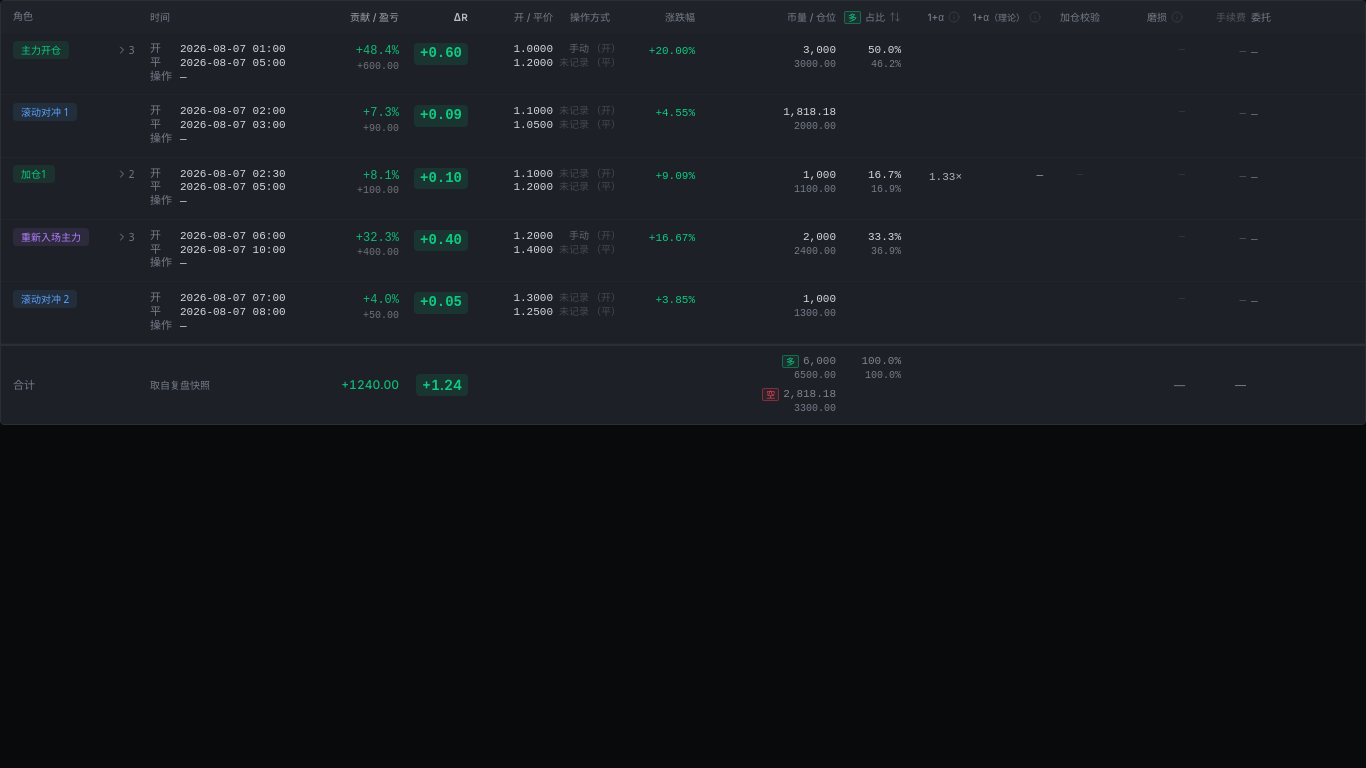
Scenario: 【用户要求】主力与其他多单的阶段子行默认折叠，收尾不呈现 › 点开：阶段子行出现在主力行正下方，容器 id 与 aria-controls 对上；再点收起
Click the button "3" next to "主力开仓" at (127, 50), box [113,41,141,59]
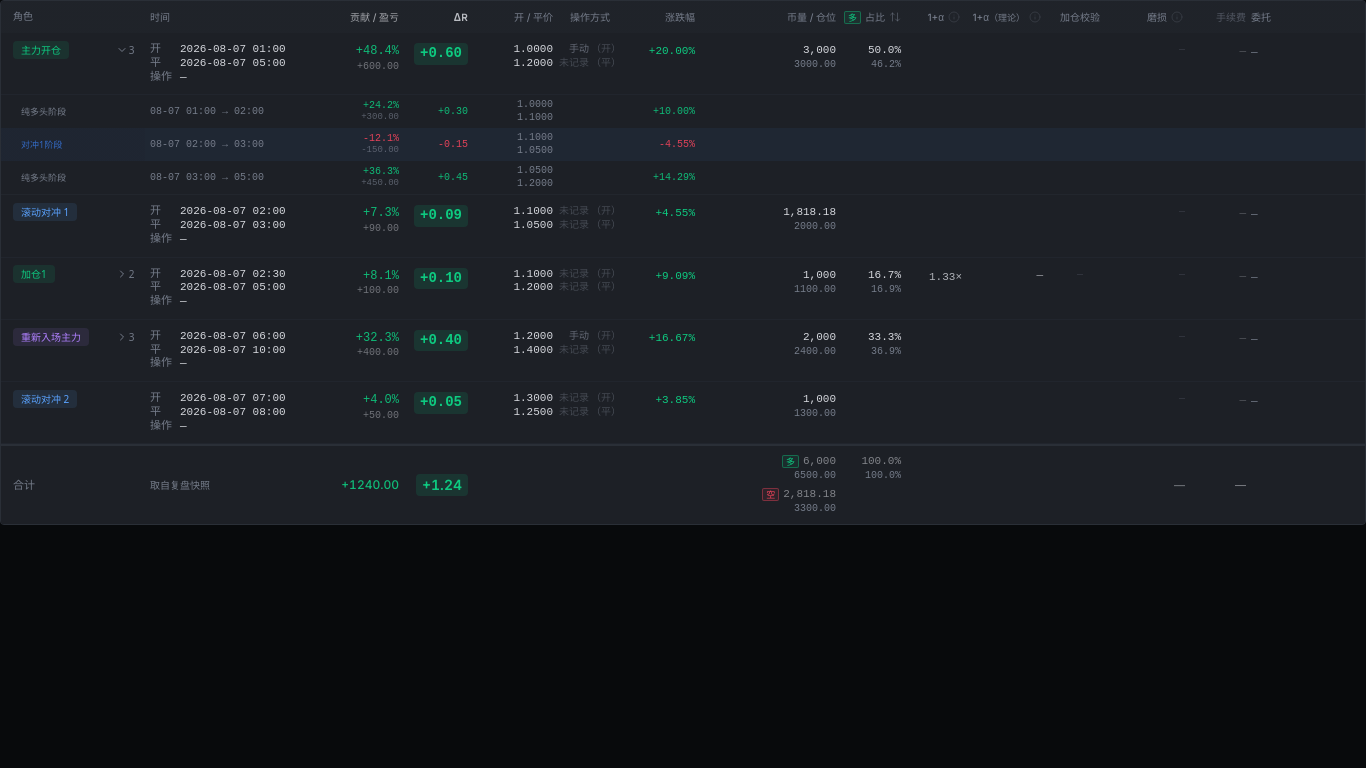
expect the element showing "纯多头阶段" in the row of "+24.2%" is shown: met, box [21,105,66,118]
expect the element showing "对冲1阶段" is shown: met, box [1,128,145,161]
Click the button "3" next to "主力开仓" at (127, 50), box [113,41,141,59]
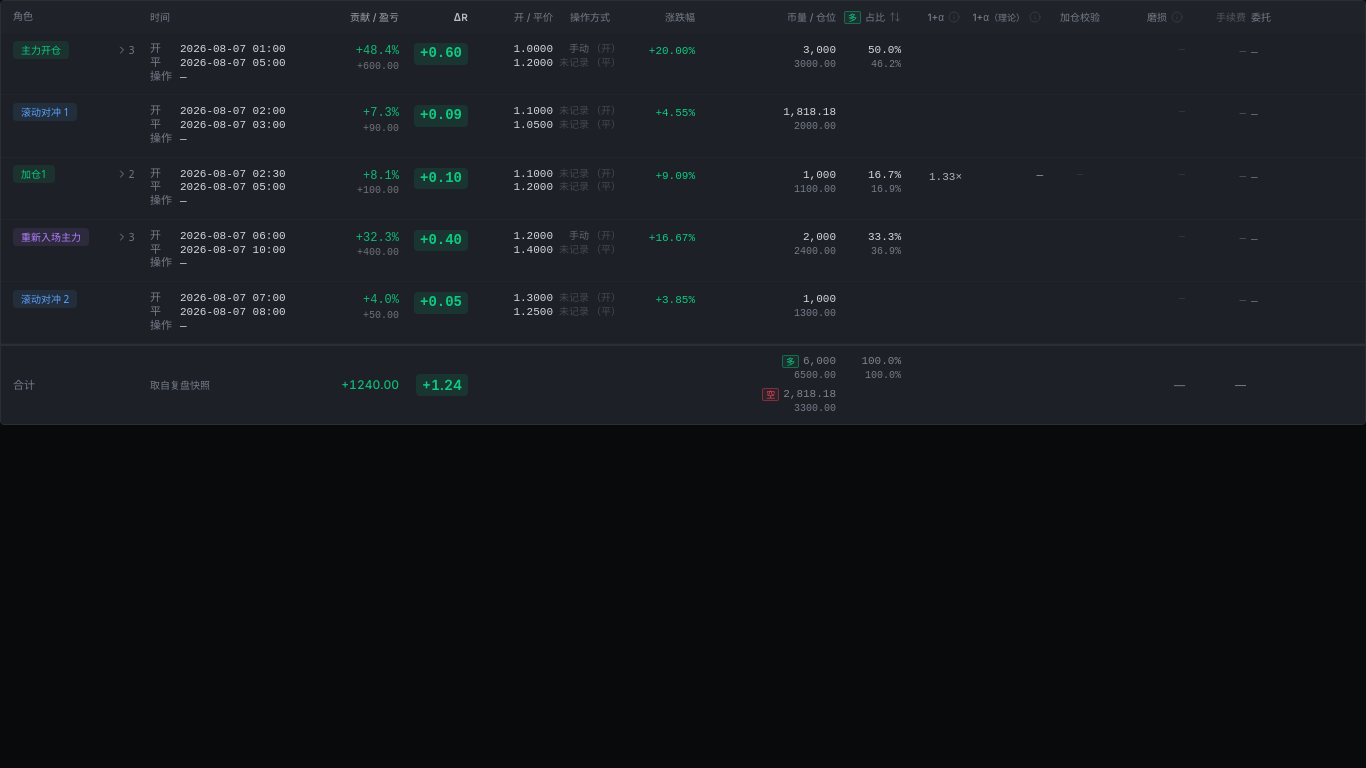
expect the element with test id "leg-phases-main" is gone: met
